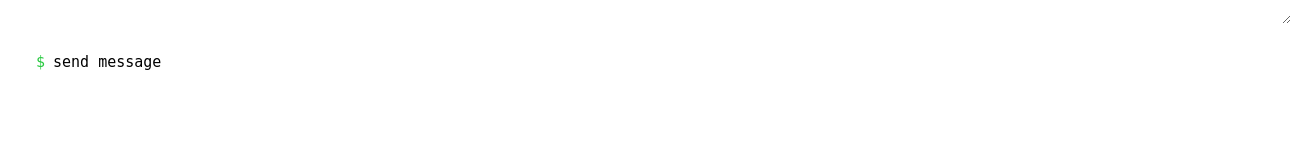
Test: ContactForm › shows a validation error when submitted empty
Click the button "$ send message" at (99, 62), box top-left (12, 40), bottom-right (185, 83)
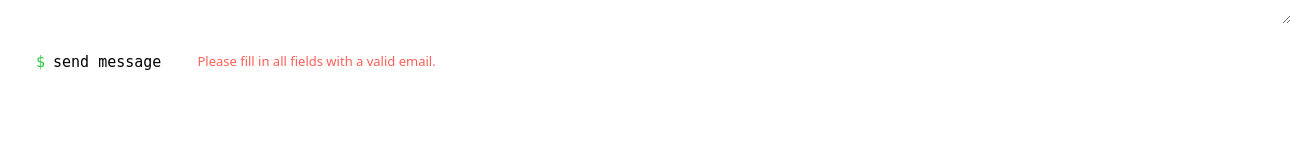
Expected: the message "Please fill in all fields with a valid email." is shown, top-left (197, 52), bottom-right (436, 72)
